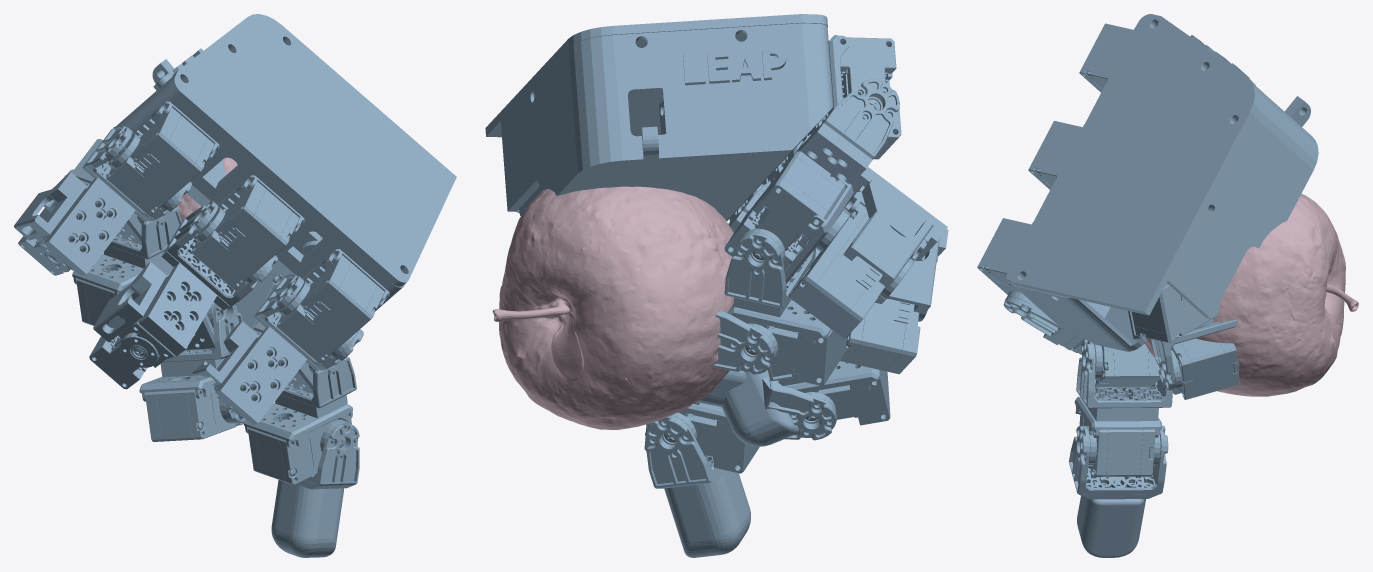
3 views of the same model, side by side, from view 1: azimuth 30°, elevation 25°; view 2: azimuth 150°, elevation 25°; view 3: azimuth 270°, elevation 25° (orthographic). The views are drawn at different scales.
Visible parts, largest first — view 1: world; view 2: world, obj_mesh_grasp_15.obj; view 3: world, obj_mesh_grasp_15.obj.
Part boxes in pixels (x1,y1,x2,y2): world: (14, 14, 456, 557); world: (485, 14, 948, 557); obj_mesh_grasp_15.obj: (492, 186, 733, 429); world: (977, 14, 1318, 557); obj_mesh_grasp_15.obj: (1145, 193, 1358, 396).
Size of the model in its own units: 0.1795 by 0.213 by 0.151.
